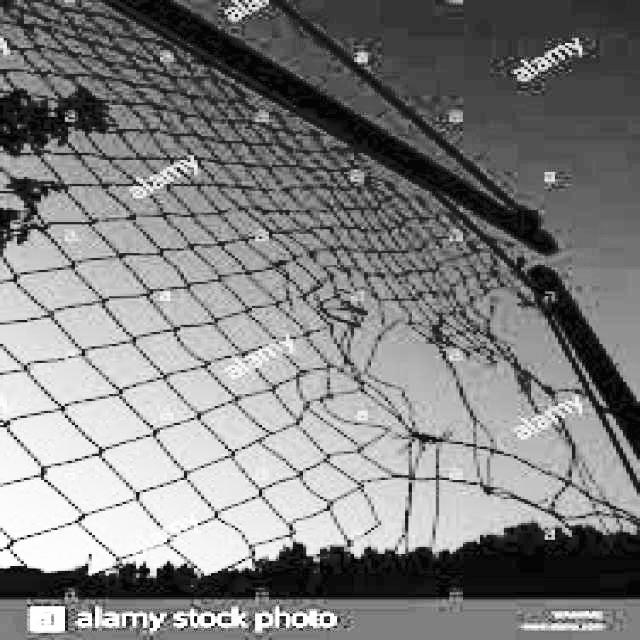anomaly-fence: (299, 196, 640, 546)
